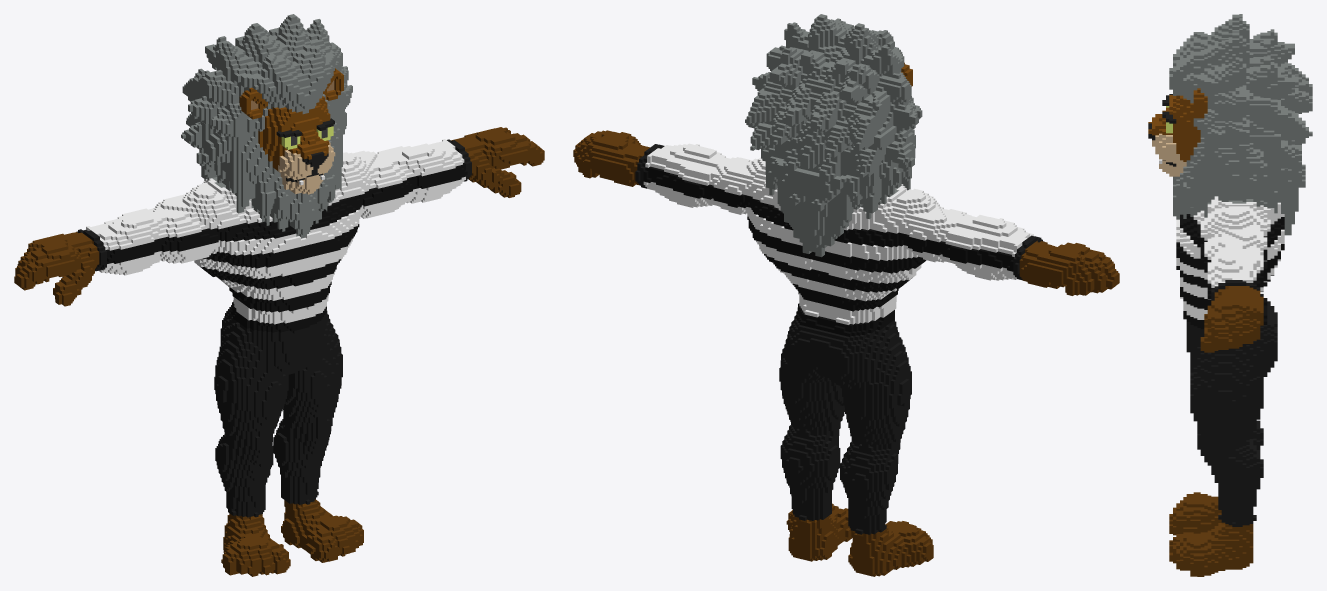
3 views of the same model, side by side, from view 1: azimuth 30°, elevation 25°; view 2: azimuth 150°, elevation 25°; view 3: azimuth 270°, elevation 25° (orthographic). The views are drawn at different scales.
Parts seen in each view (by area): view 1: standard; view 2: standard; view 3: standard.
Part boxes in pixels (x1=…): standard: x1=14, y1=14, x2=544, y2=576; standard: x1=573, y1=14, x2=1119, y2=576; standard: x1=1148, y1=14, x2=1312, y2=576.
Bounding box in the file's own units: 17.2 × 16.5 × 4.7.
Materials: 5 (5 with a texture image).
